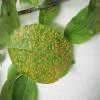Apple rust leaf: (6, 24, 76, 84)
